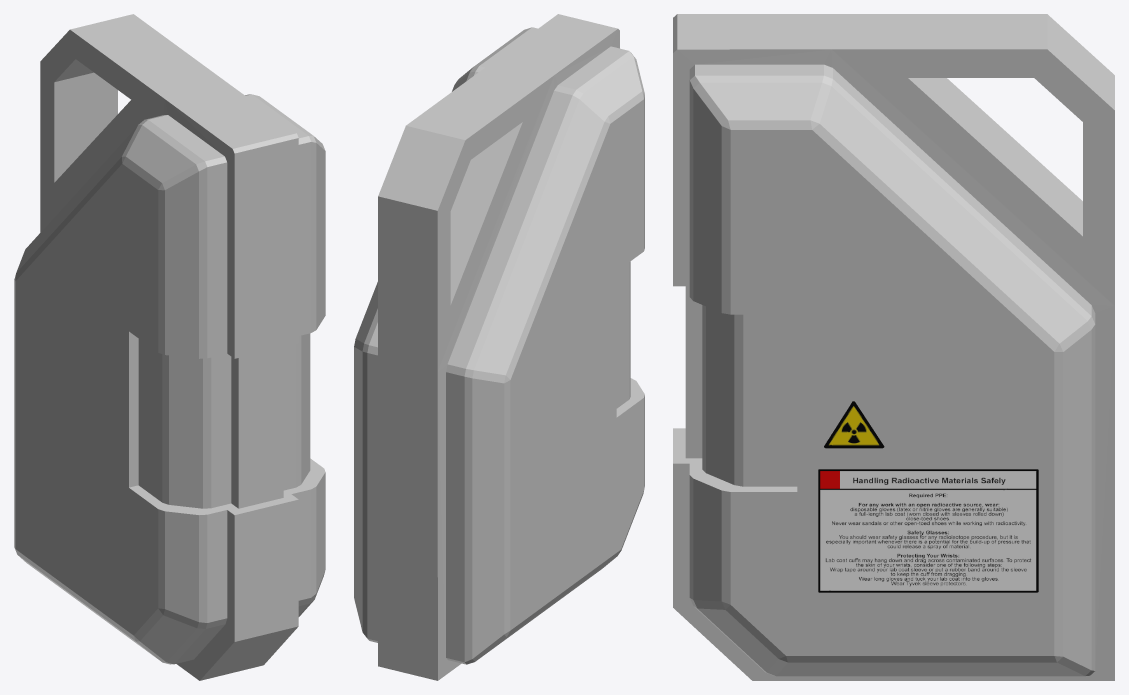
File: prop_06.fbx
3 renders of one model, left to right at view 1: azimuth 30°, elevation 25°; view 2: azimuth 150°, elevation 25°; view 3: azimuth 270°, elevation 25°, orthographic. The views are drawn at different scales.
Visible parts, largest first — view 1: Cube.231, Cube.230; view 2: Cube.231, Cube.230; view 3: Cube.231, Cube.230, Cube.232.
Boxes of the visible parts, x1,y1,x2,y2 form: Cube.231: (14,94,325,664); Cube.230: (40,14,310,680); Cube.231: (354,27,644,664); Cube.230: (378,14,630,680); Cube.231: (689,64,1095,676); Cube.230: (673,14,1114,680); Cube.232: (818,401,1038,592).
Bounding box in the file's own units: 0.1449 × 0.4604 × 0.2919.
